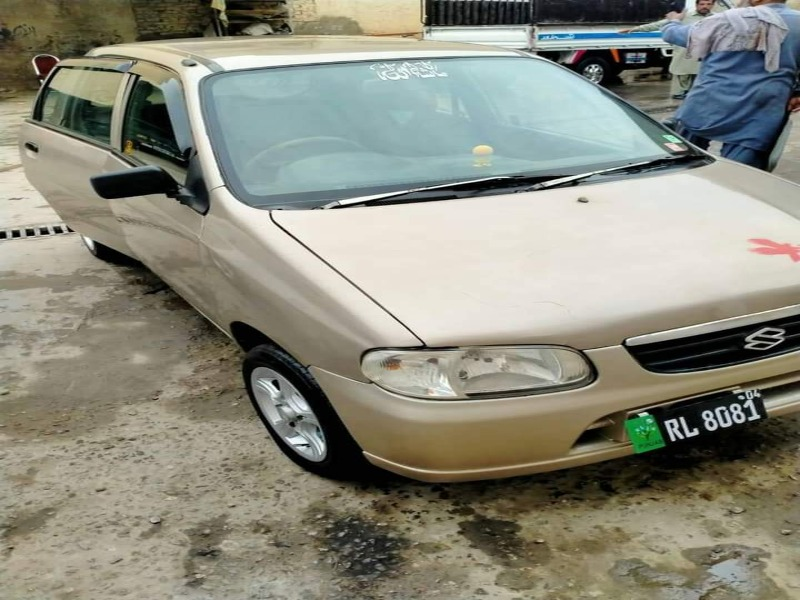License Plate: (624, 386, 771, 454)
